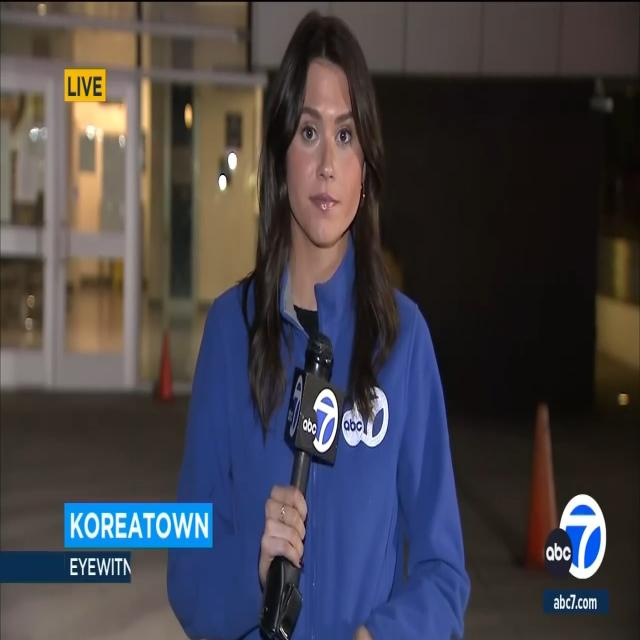microphone: (260, 324, 344, 638)
